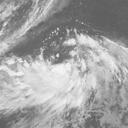cyclone: (25, 38, 107, 111)
